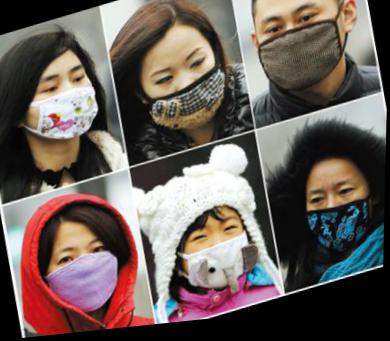OK: (250, 1, 349, 103), (44, 227, 129, 322), (21, 58, 105, 148), (179, 215, 258, 299)
WRONG: (138, 43, 229, 142), (304, 175, 380, 263)
